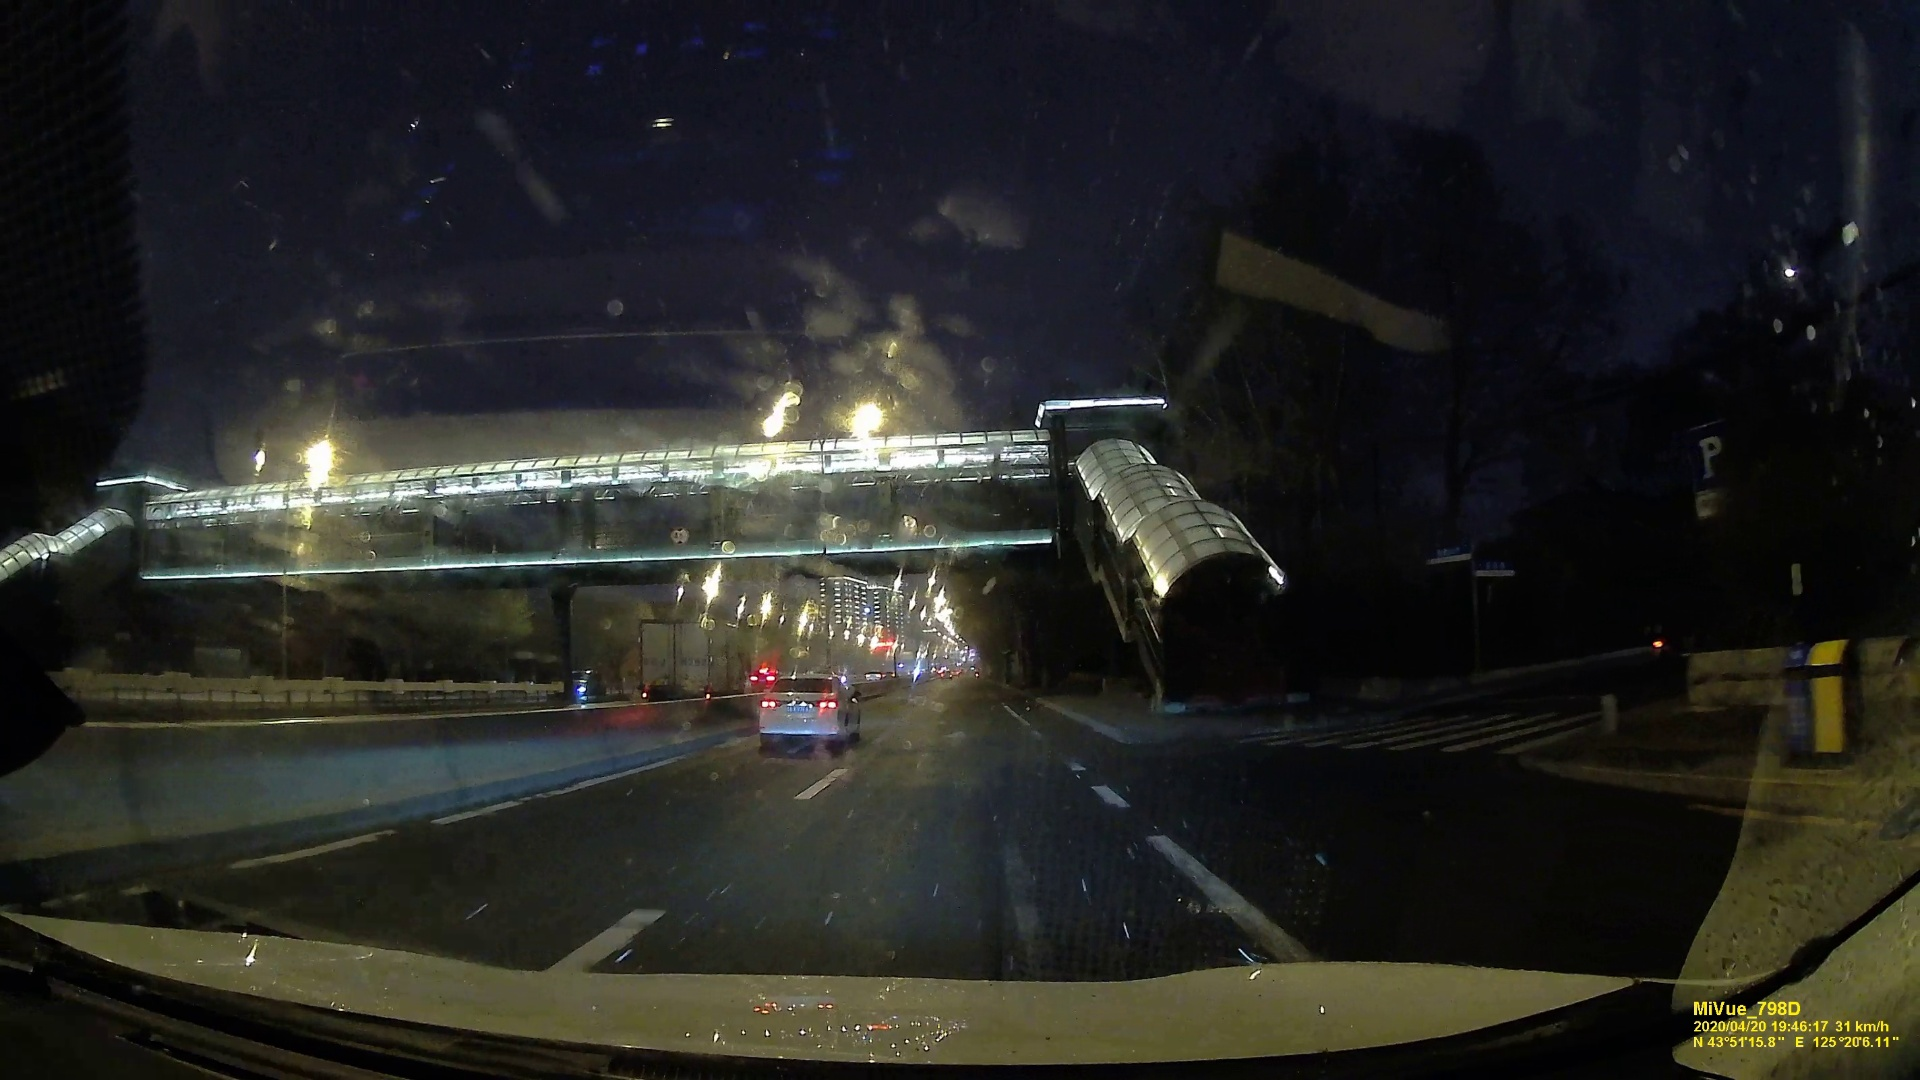truck: (640, 617, 745, 694)
vehicle: (758, 674, 862, 748)
